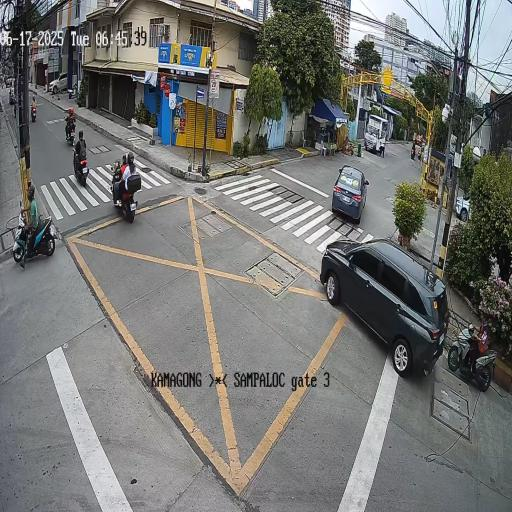Car: (314, 220, 454, 394), (315, 154, 374, 219)
Motor: (3, 181, 71, 269), (98, 140, 150, 242), (451, 308, 499, 406), (69, 132, 94, 206), (59, 102, 78, 142), (28, 89, 46, 131), (407, 134, 419, 161)
